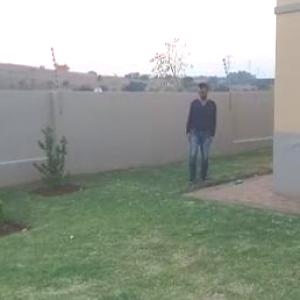follow: (185, 79, 221, 185)
